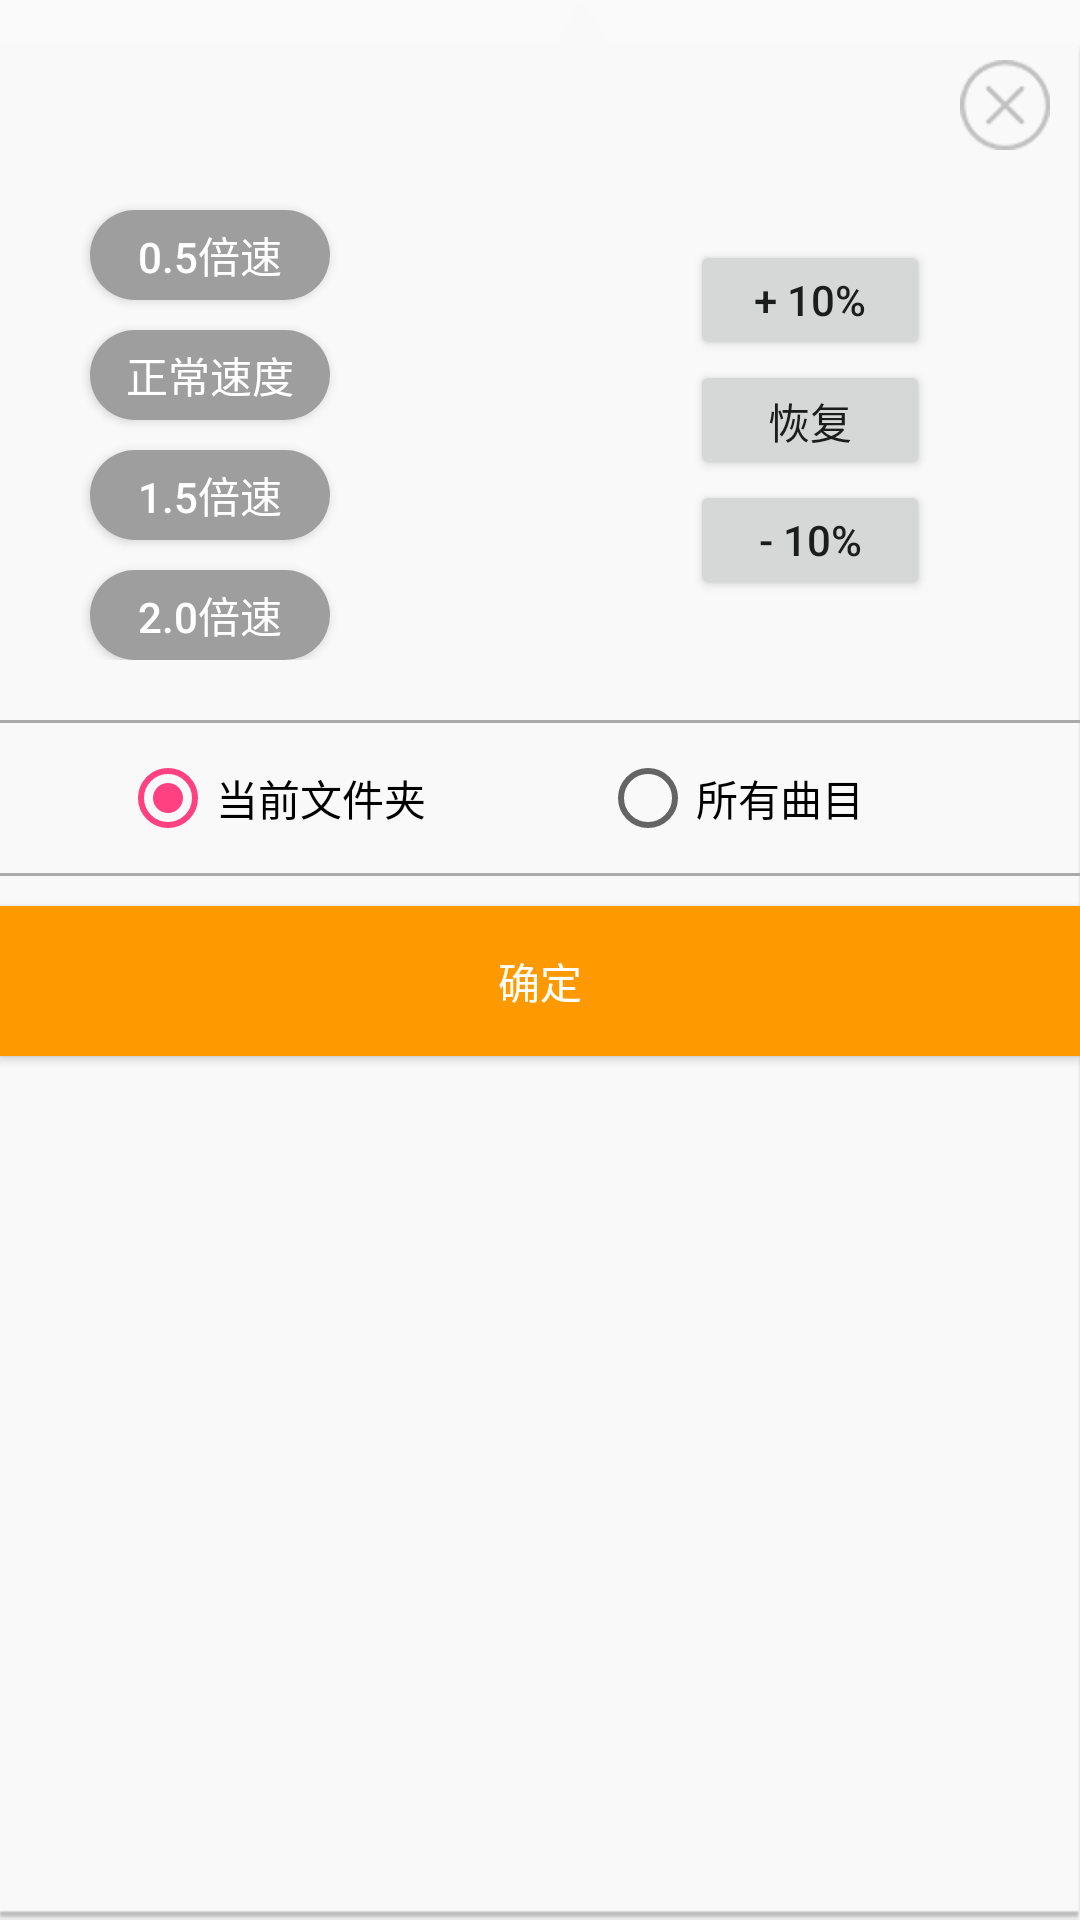

Named icons in this screenshot (1080 × 1920) and their centers, (x=x, y=y):
speed dialog close: (x=1005, y=105)
